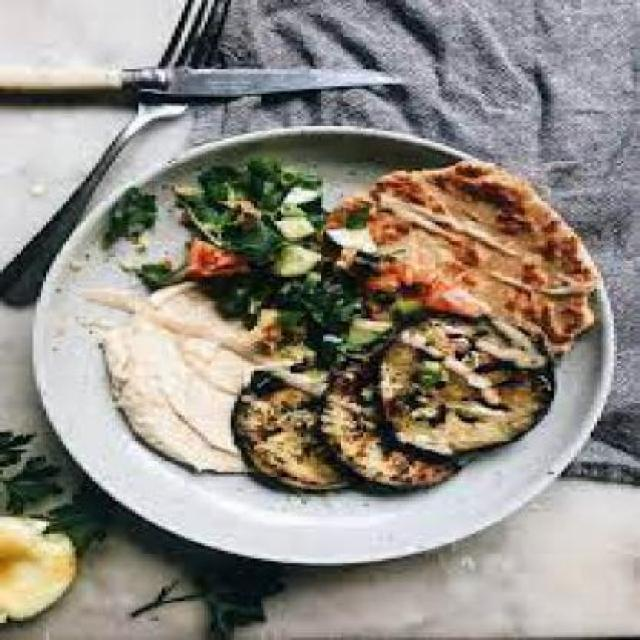eggplant: (234, 313, 561, 499)
greek salad: (106, 162, 397, 344)
hummus: (92, 284, 271, 467)
